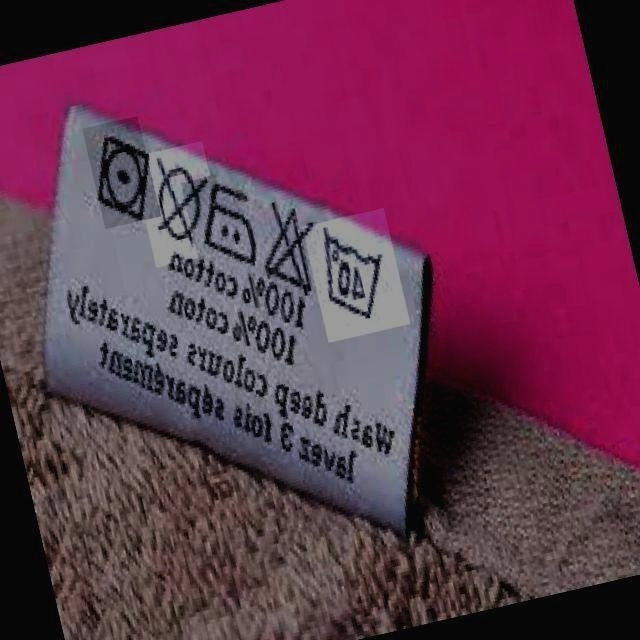40C: (318, 227, 383, 321)
DN_bleach: (263, 198, 317, 288)
DN_dry_clean: (154, 160, 203, 248)
iron_medium: (202, 176, 257, 267)
tumble_dry_low: (92, 132, 154, 222)
